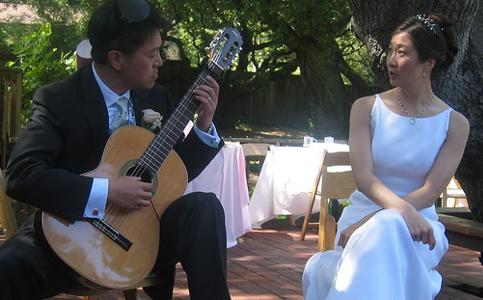person: (5, 4, 233, 300)
